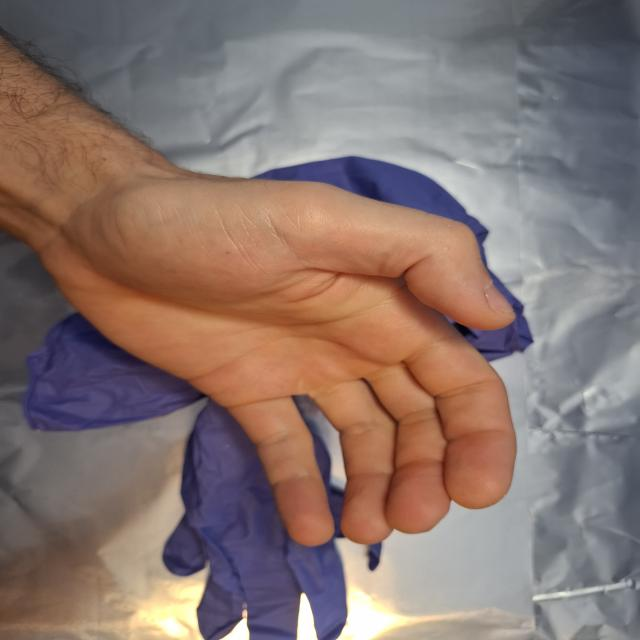glove_off: (25, 150, 520, 549)
